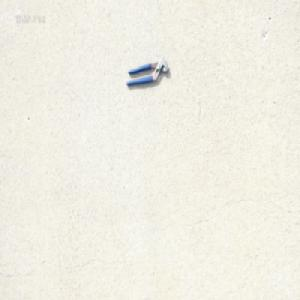Pliers: (126, 57, 169, 87)
